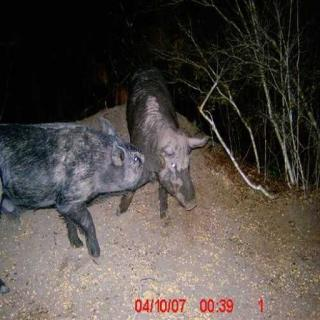Pig: (107, 49, 234, 244), (0, 115, 143, 287)
